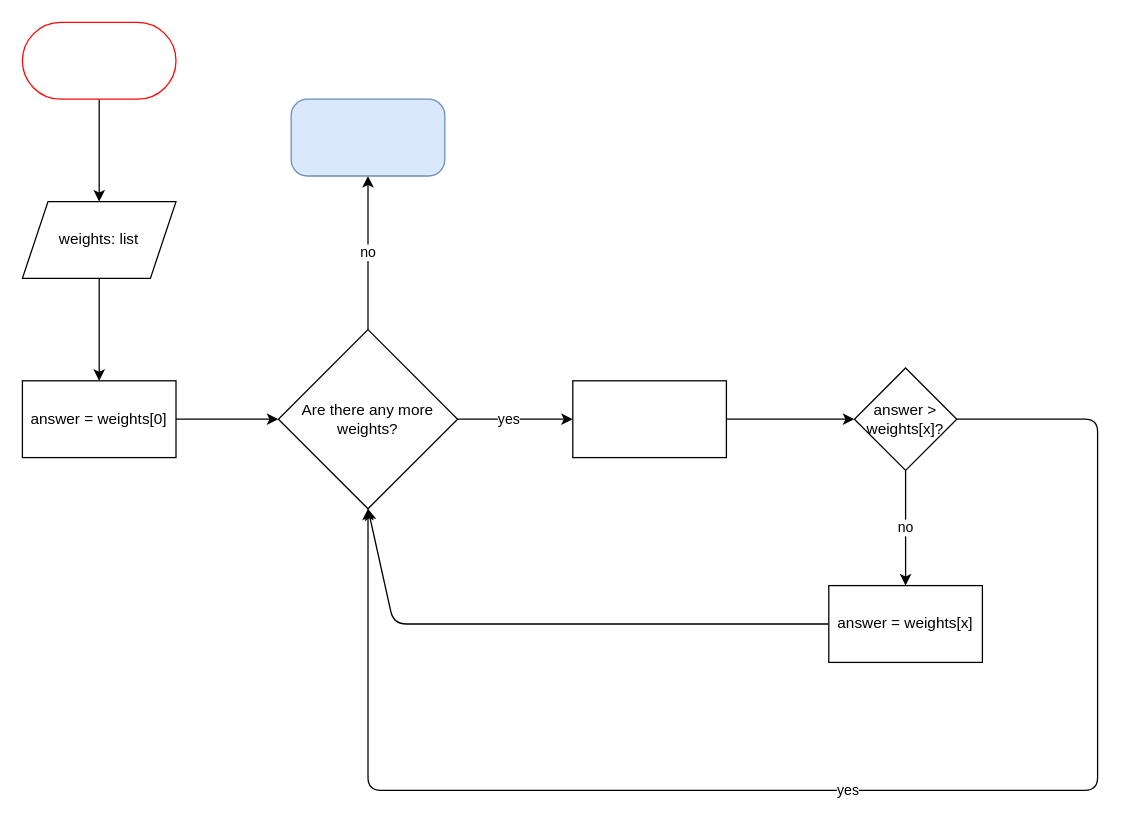
Some shapes in this 1130 by 823 pixel diagram are drawn without their labels. Here are the shapes that lost their labels. From the top down, the centre of each, then its label:
At point (98, 60): "Start".
At point (367, 137): "return answer".
At point (649, 419): "Take the next and {{answer}} weights".
